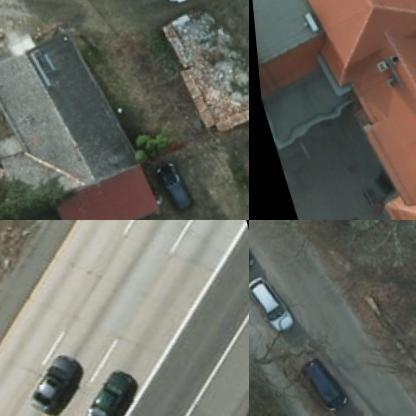car: (16, 348, 88, 415), (66, 362, 140, 415), (249, 269, 300, 336), (296, 351, 348, 412), (148, 158, 190, 213)
